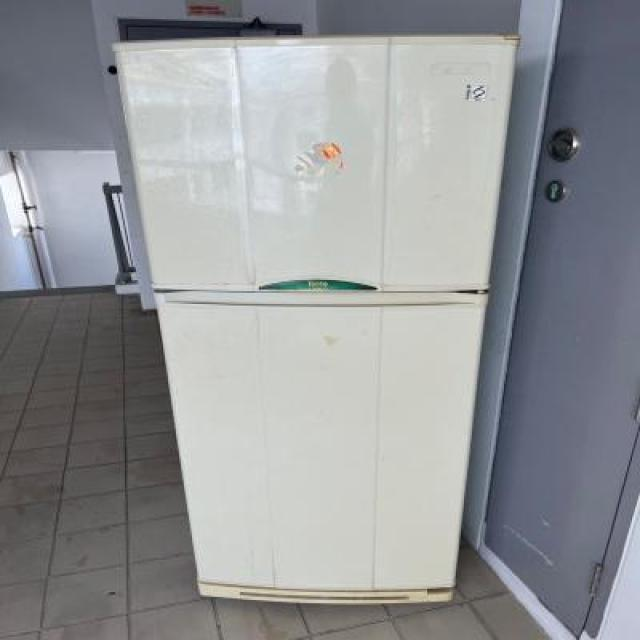refrigerator: (114, 34, 522, 606)
